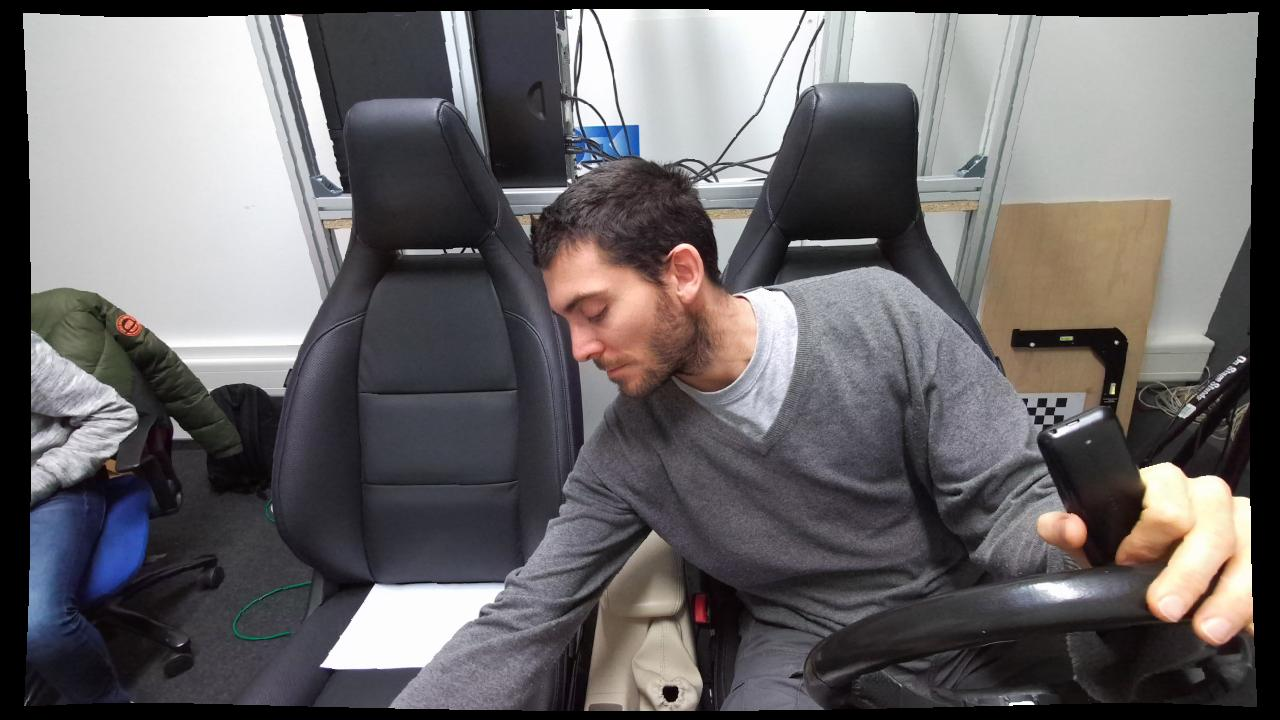Distracted: (388, 157, 994, 710)
PhoneUse: (1027, 381, 1173, 575)
